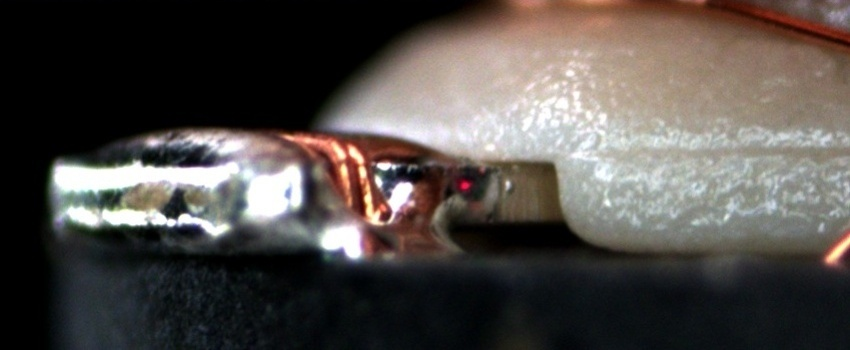DL: (650, 116, 849, 175)
TE: (268, 130, 404, 229)
